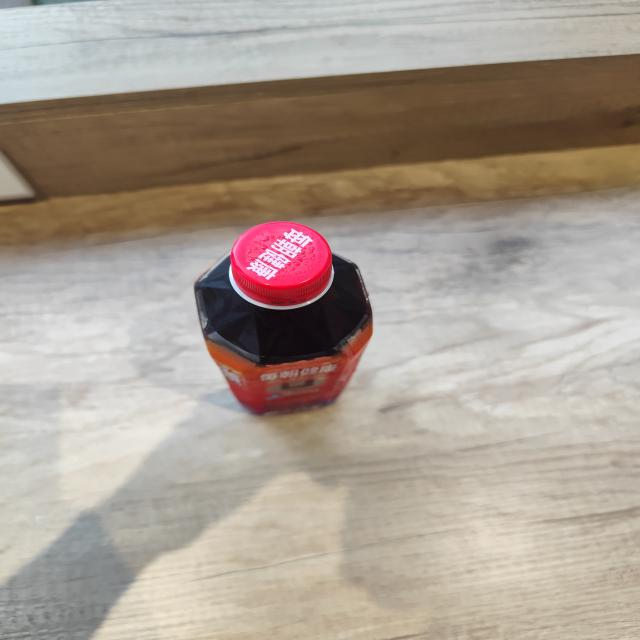MeiChou_BlackTea: (185, 217, 378, 415)
